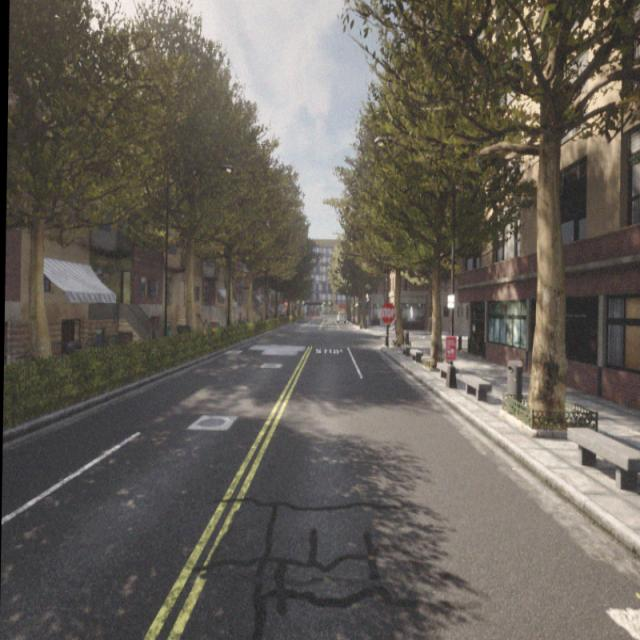stop sign: (378, 300, 397, 326)
